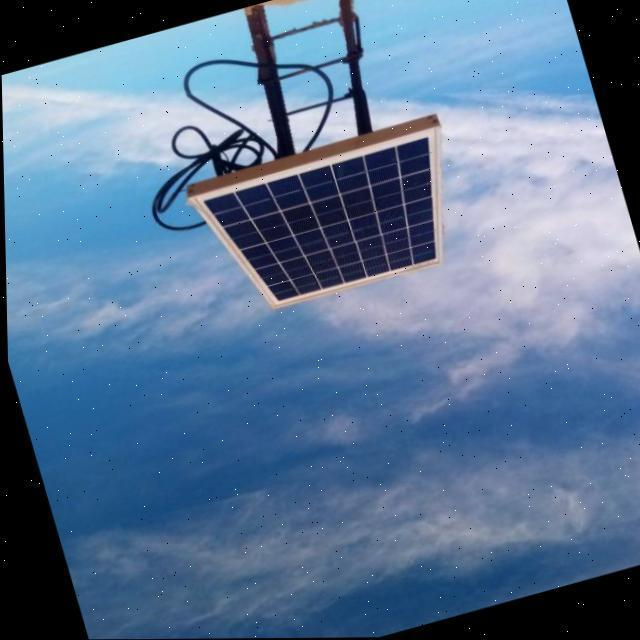Normal Solar Panel: (187, 126, 473, 322)
